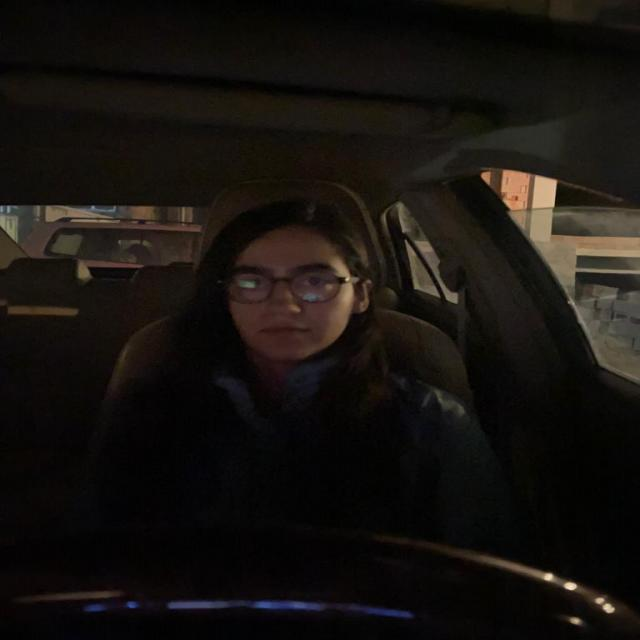person: (223, 213, 367, 369)
